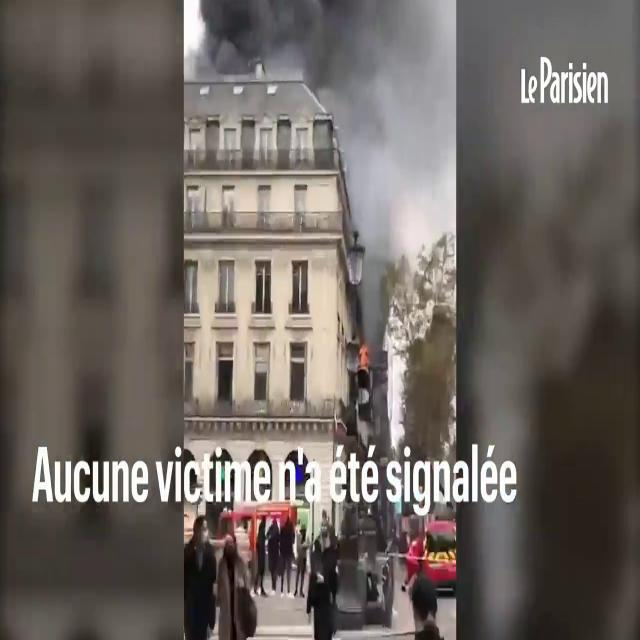Fire: (358, 334, 370, 377)
Smoke: (186, 0, 450, 198)
